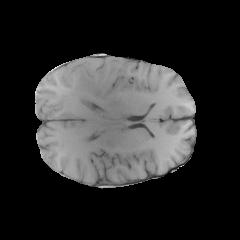glioma: (60, 58, 113, 102)
